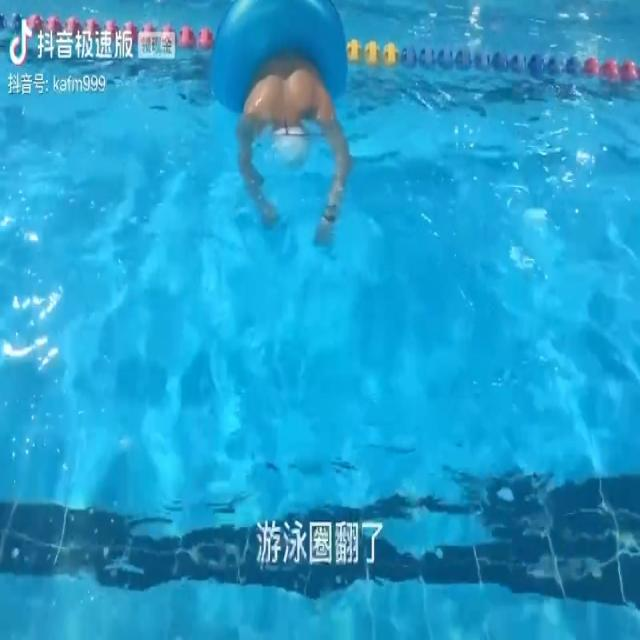Drowning: (230, 49, 357, 255)
